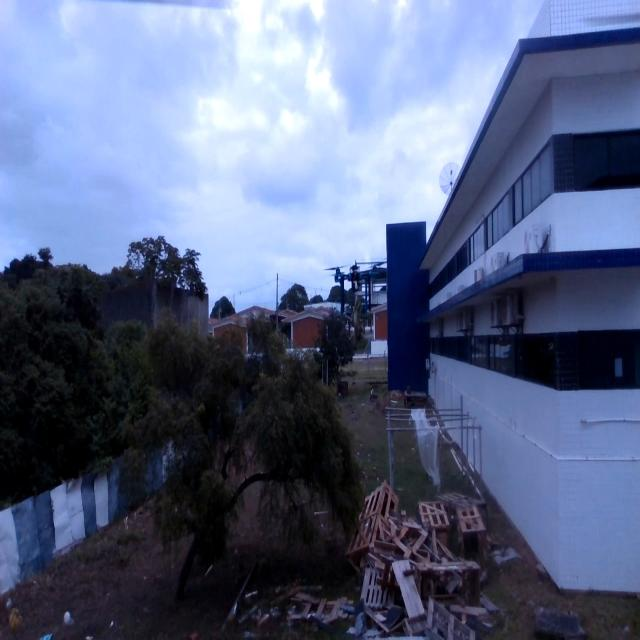-uav-: (326, 250, 382, 326)
